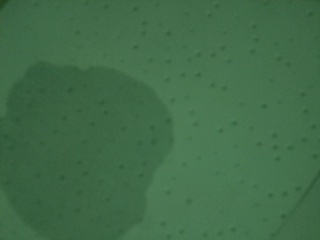Water_detected: (12, 87, 150, 227)
